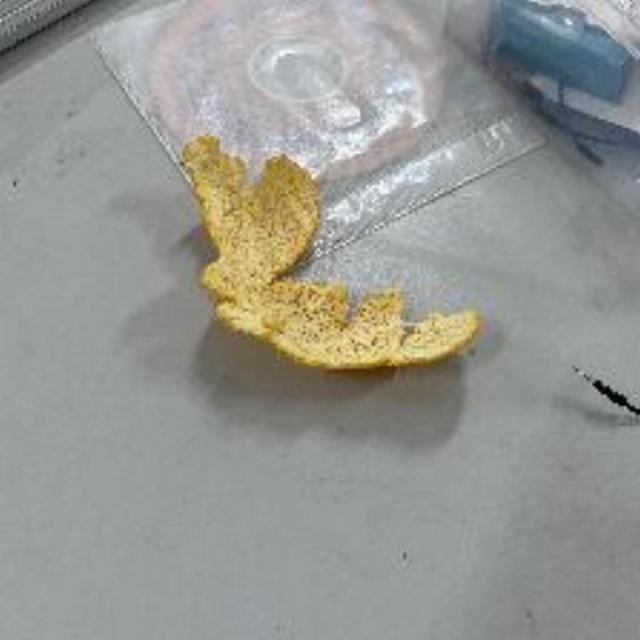orange-peel: (174, 134, 482, 372)
